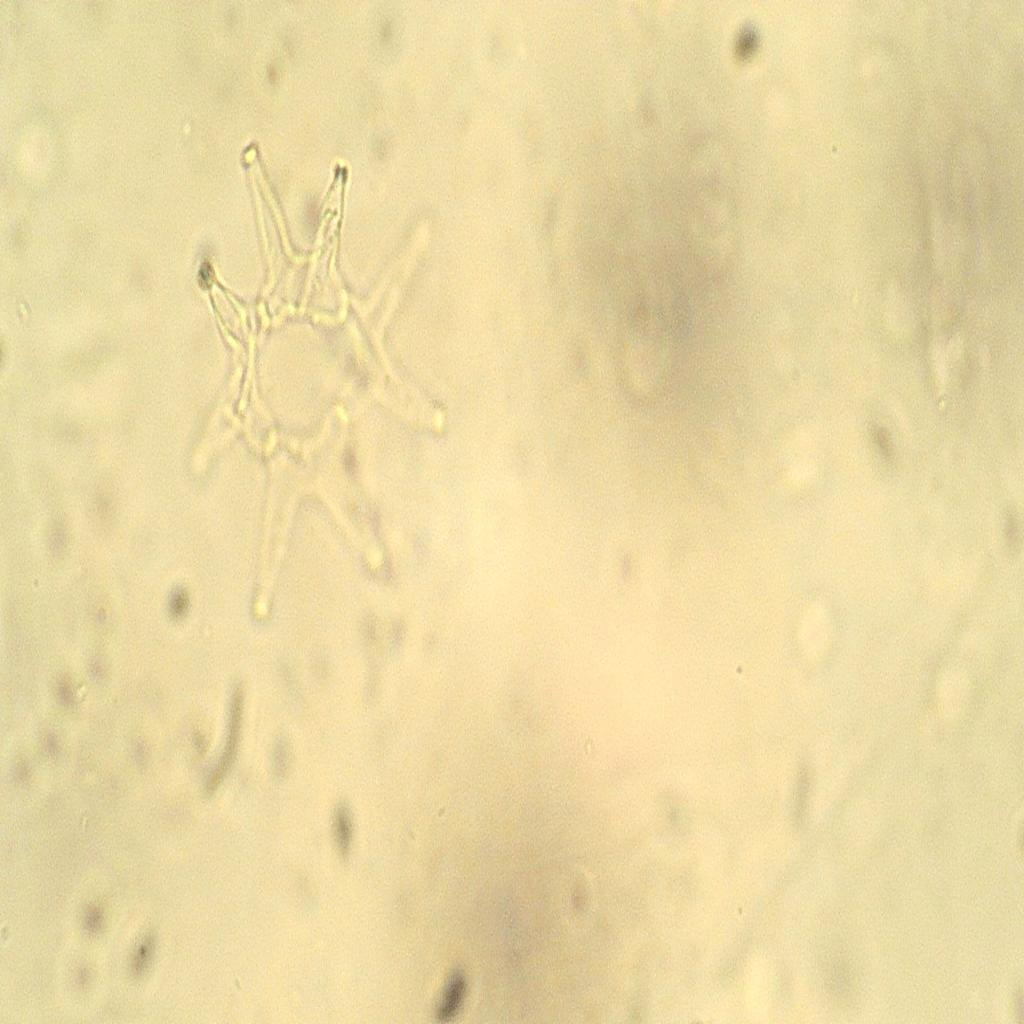Pediastrum_1F0: (166, 115, 462, 638)
